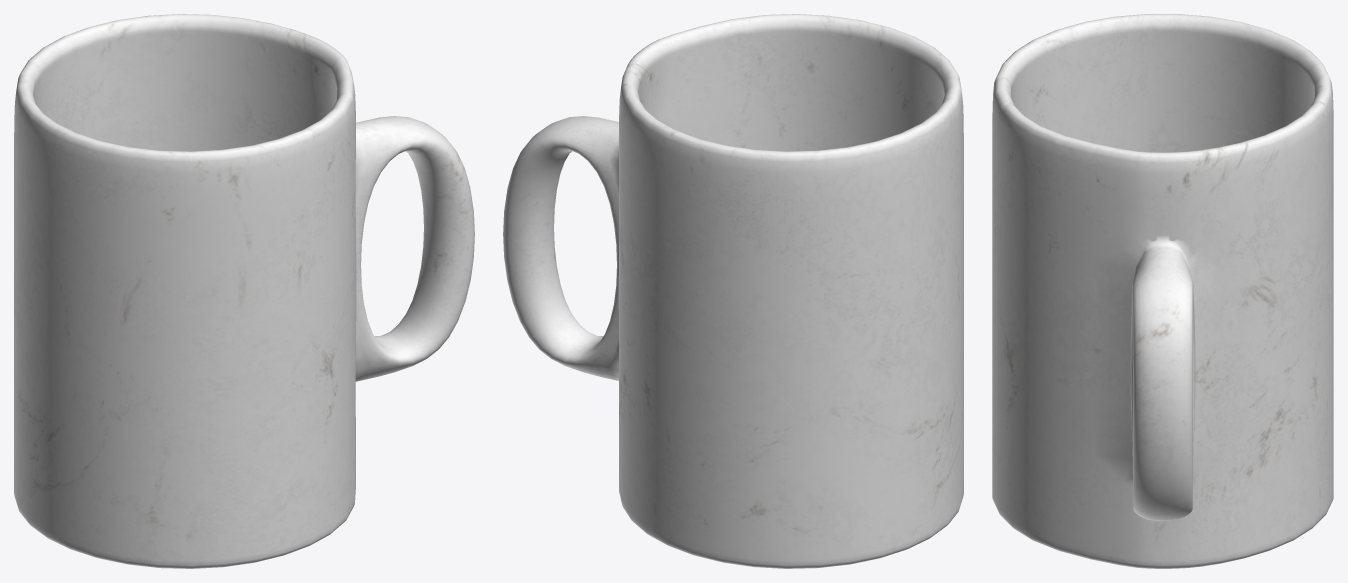
Rendered from mug.glb.
The picture shows the model from 3 angles, left to right: view 1: azimuth 30°, elevation 25°; view 2: azimuth 150°, elevation 25°; view 3: azimuth 270°, elevation 25°; orthographic projection.
Parts seen in each view (by area): view 1: CoffeeCup_High_0; view 2: CoffeeCup_High_0; view 3: CoffeeCup_High_0.
Boxes of the visible parts, x1=… form: CoffeeCup_High_0: x1=14, y1=14, x2=474, y2=568; CoffeeCup_High_0: x1=503, y1=14, x2=963, y2=568; CoffeeCup_High_0: x1=992, y1=14, x2=1333, y2=568.
Size of the model in its own units: 0.1257 by 0.1166 by 0.0866.
1 material, 1 textured.
